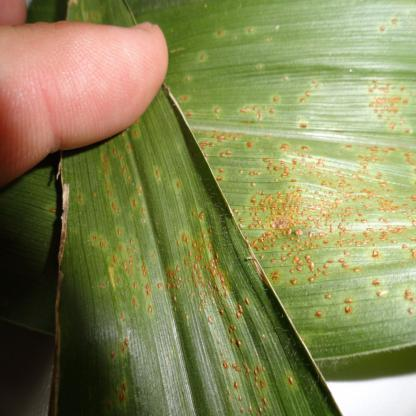corn rust leaf: (170, 11, 416, 384), (64, 155, 351, 415)
